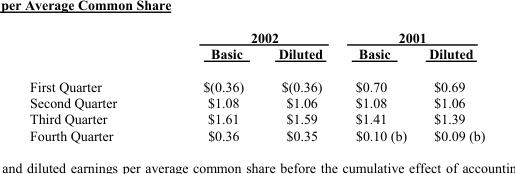table: (29, 29, 484, 142)
table column: (29, 29, 159, 142), (159, 29, 260, 142), (338, 29, 417, 142), (260, 29, 338, 142), (417, 29, 484, 142)
table column header: (29, 29, 484, 69)
table row: (29, 69, 484, 94), (29, 45, 484, 69), (29, 29, 484, 45), (29, 94, 484, 110), (29, 110, 484, 126), (29, 126, 484, 142)
table spanning cell: (159, 29, 338, 45), (338, 29, 484, 45)
